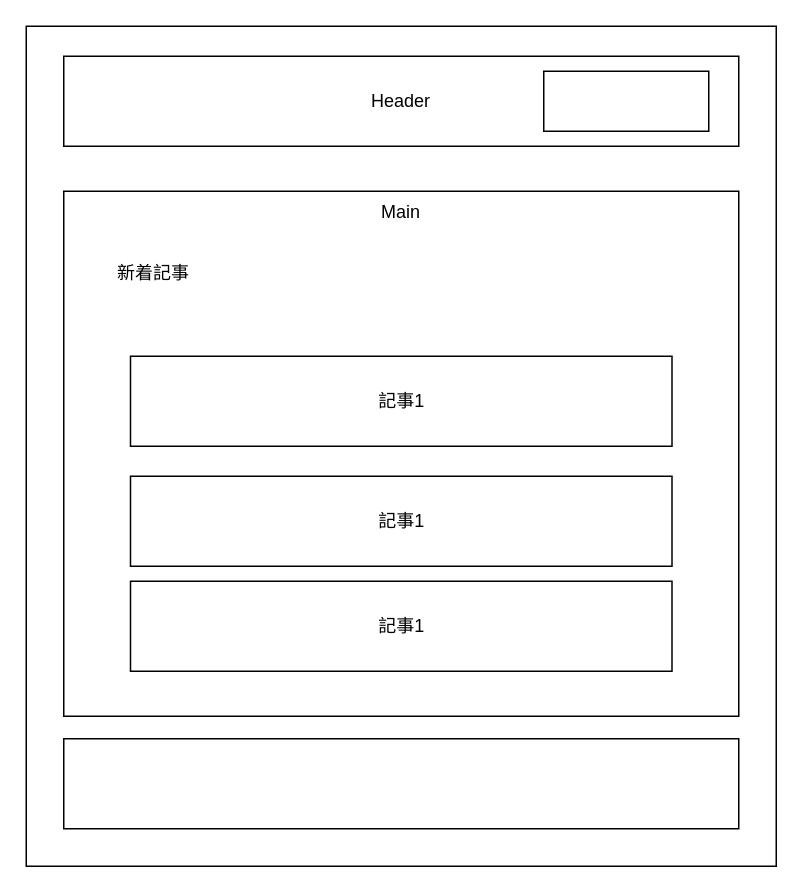
This 803x893 diagram has some shape labels left out. Each missing label, with the centre of its shape:
"Footer" belongs at point 400,783.
"記事一覧" belongs at point 625,100.
